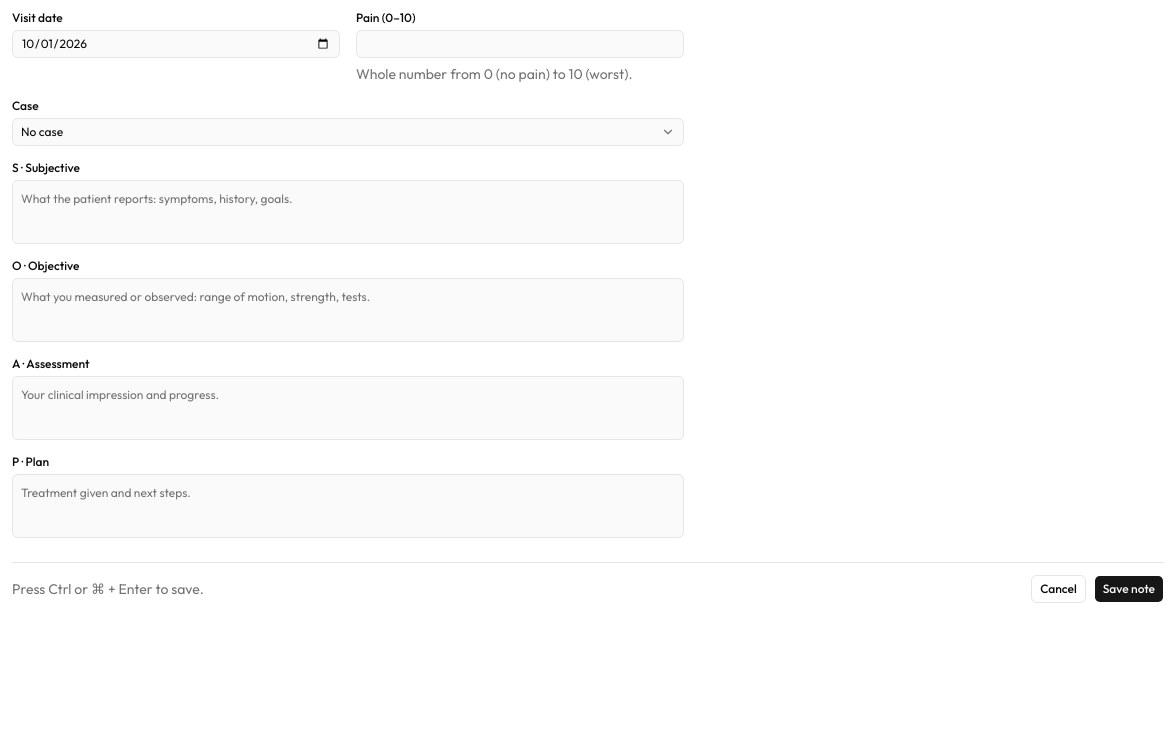
Test: NoteEditor › drafts › keeps the draft when the save fails
The width and height of the screenshot is (1176, 732).
Type "Knee pain" into the text box labelled "S · Subjective" at coordinates (348, 212), box 12,180 -> 684,244
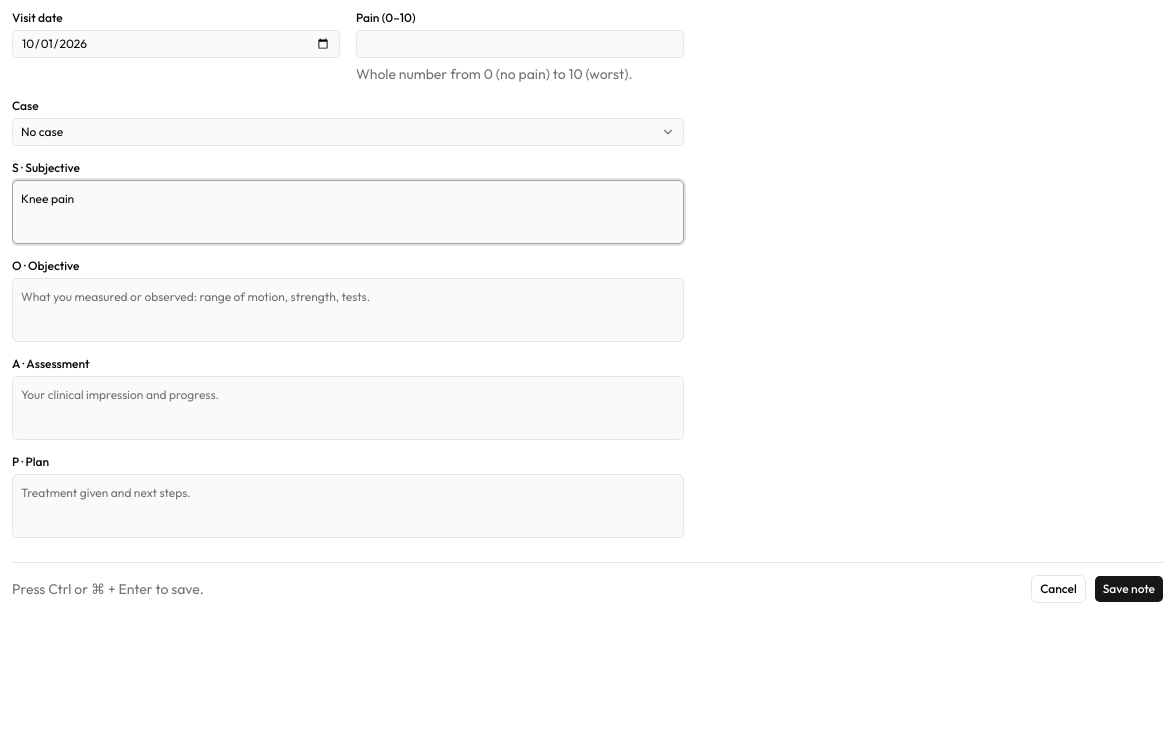
Click the button "Save note" at coordinates (1129, 589), box 1094,575 -> 1164,603
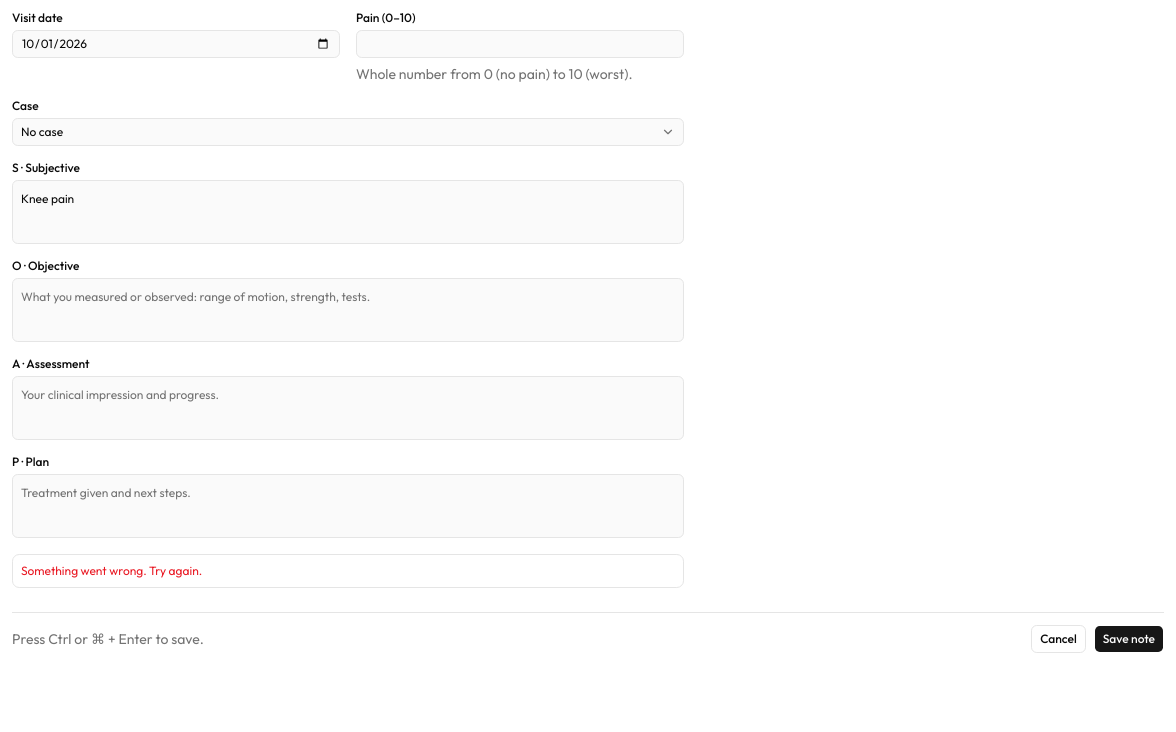
Check: the message "Something went wrong. Try again." is shown, box 12,554 -> 684,588
